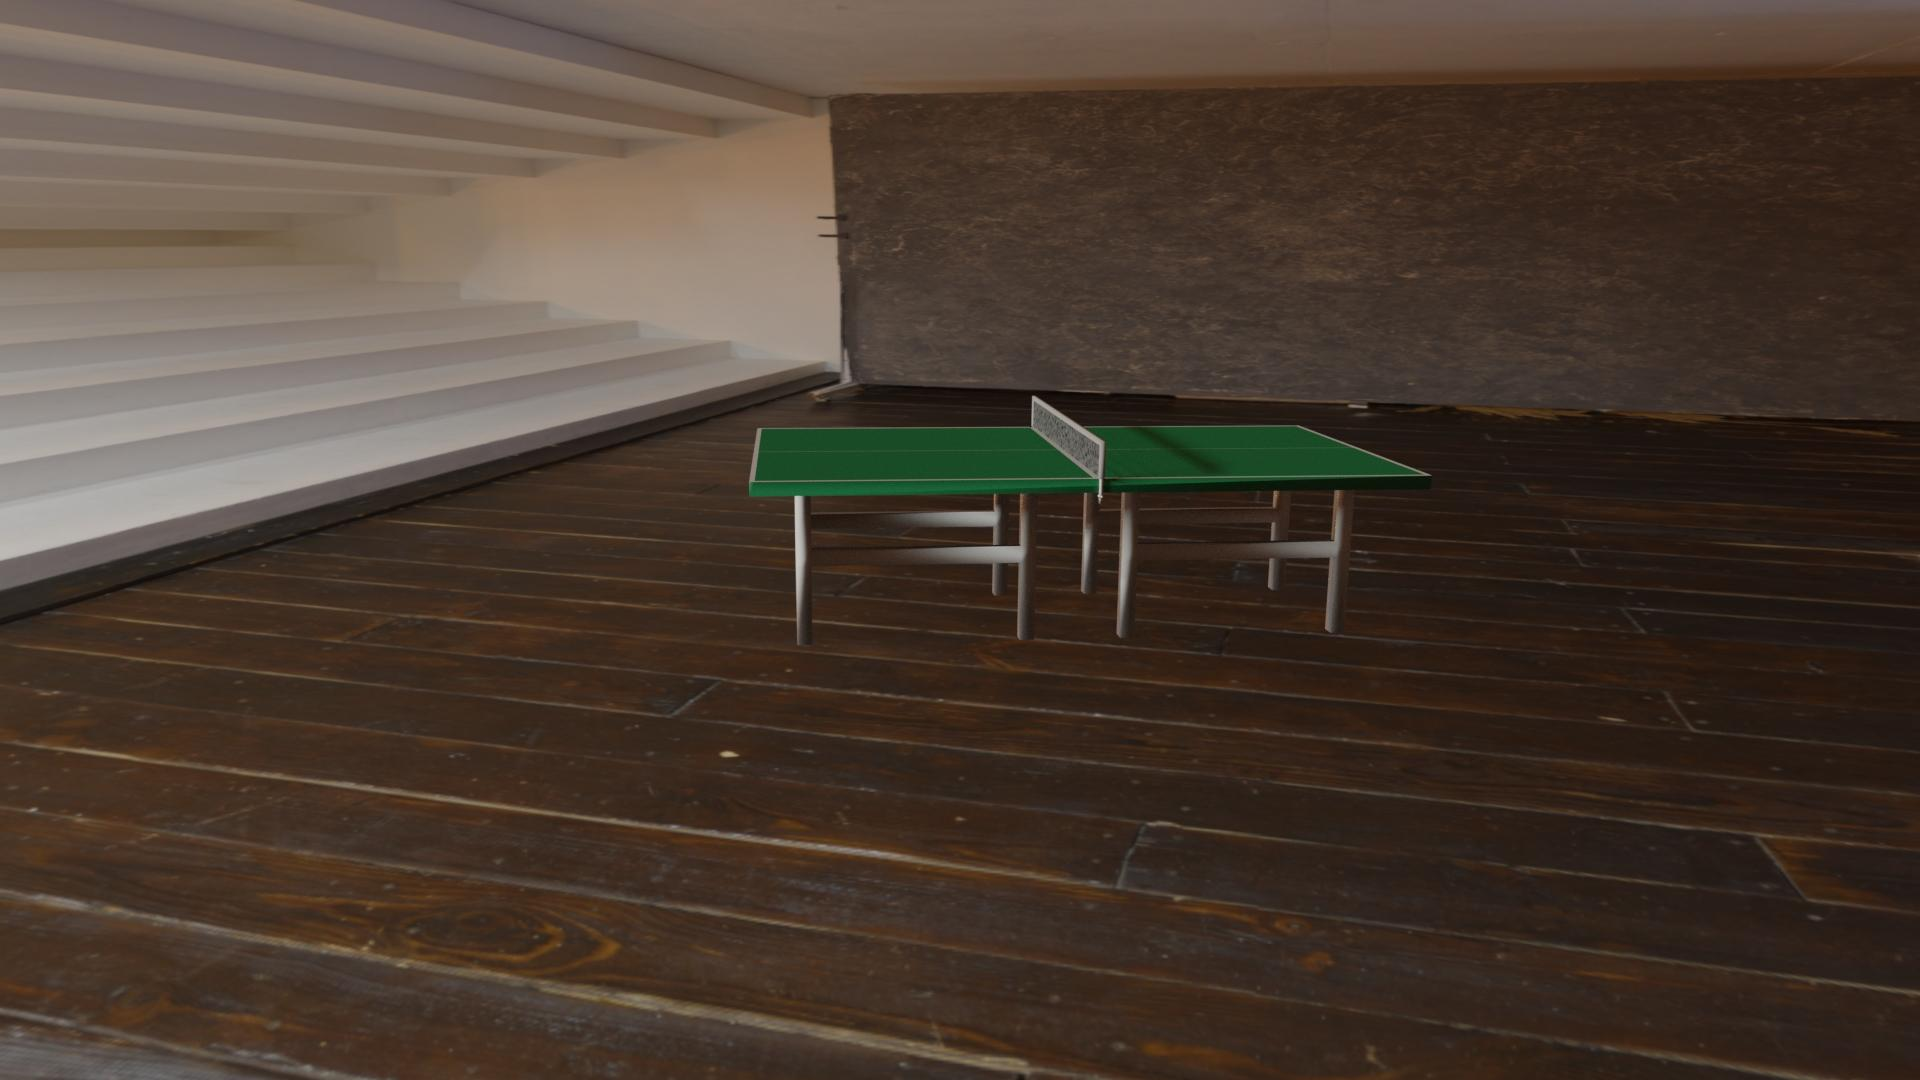table: (754, 426, 1425, 481)
